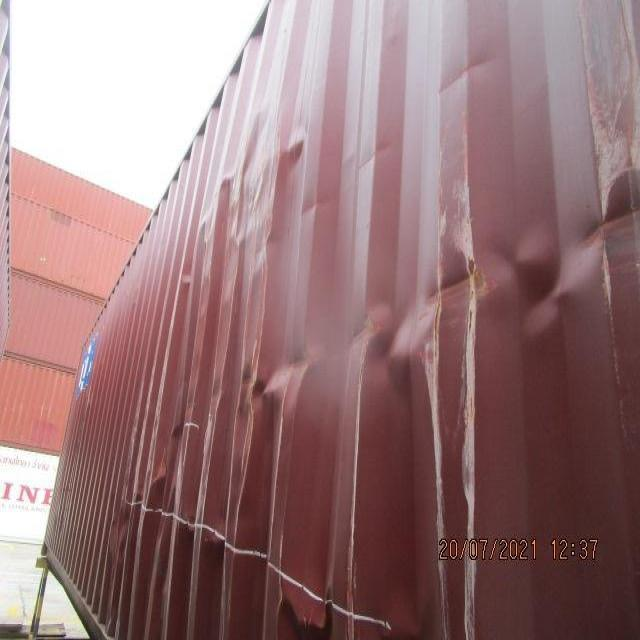dent: (102, 162, 640, 584), (176, 86, 329, 308)
